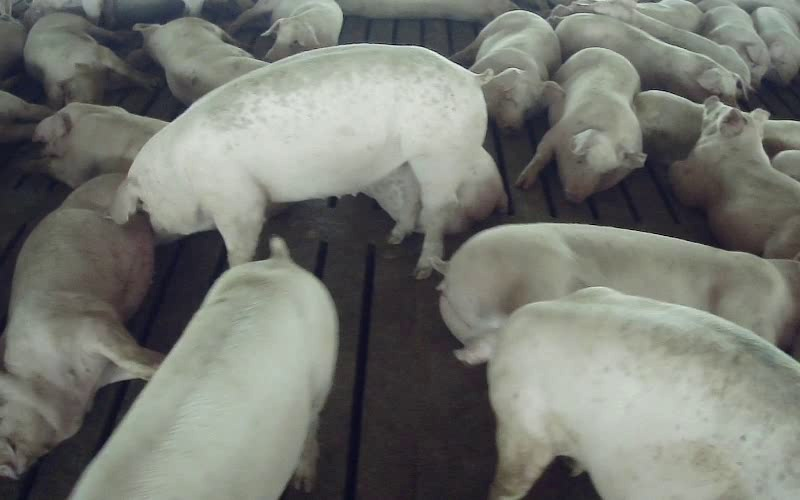pig: (112, 45, 486, 276), (457, 287, 799, 499), (72, 239, 337, 499), (0, 174, 161, 476), (432, 224, 799, 345), (670, 96, 799, 258), (518, 48, 645, 202), (555, 13, 743, 105), (569, 0, 750, 85), (451, 10, 562, 127), (24, 12, 155, 108), (21, 102, 166, 187), (127, 17, 266, 105), (229, 0, 342, 60), (697, 0, 769, 87), (752, 7, 799, 85)
